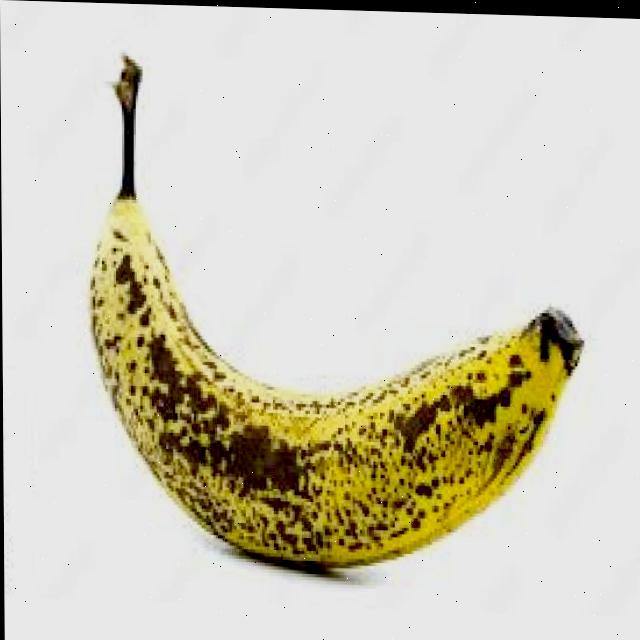banana: (85, 47, 589, 587)
